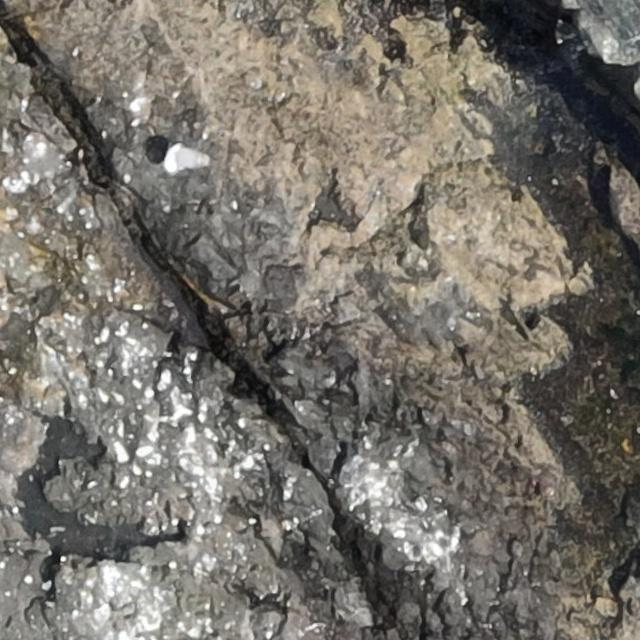umineko: (162, 147, 209, 174)
